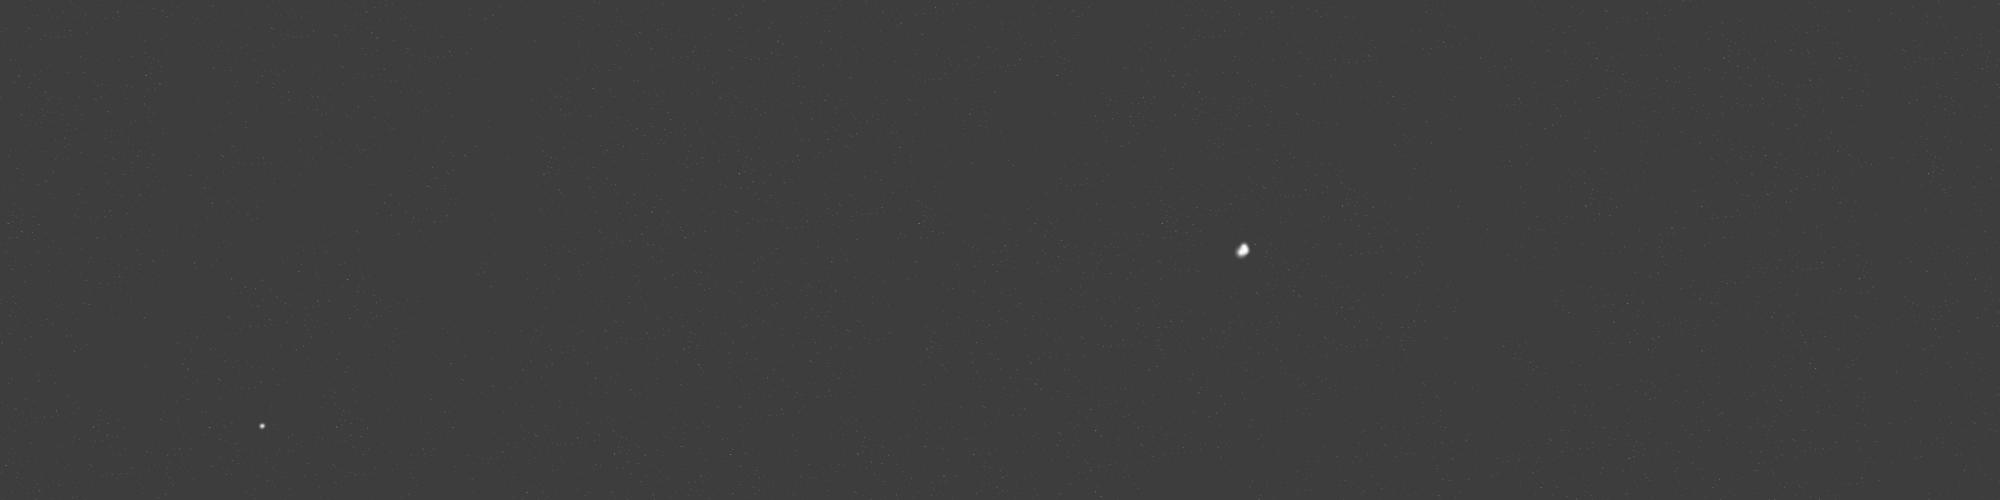Particles: (1231, 240, 1253, 259), (254, 416, 270, 435)
